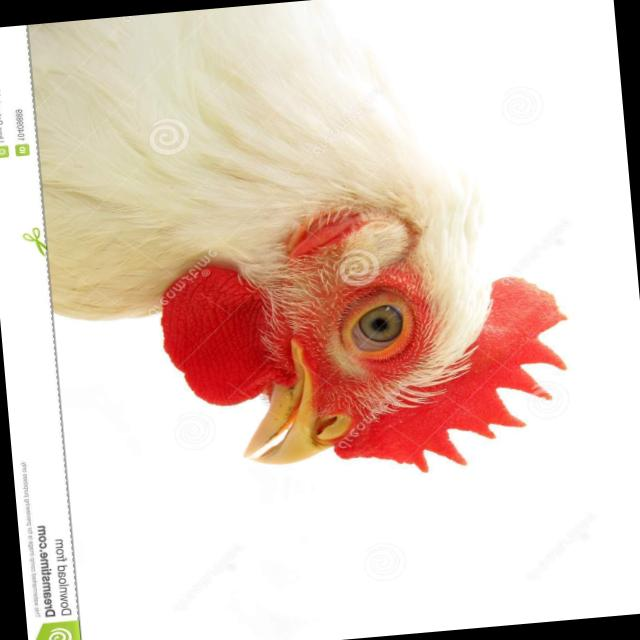Healthy: (27, 0, 579, 503)
